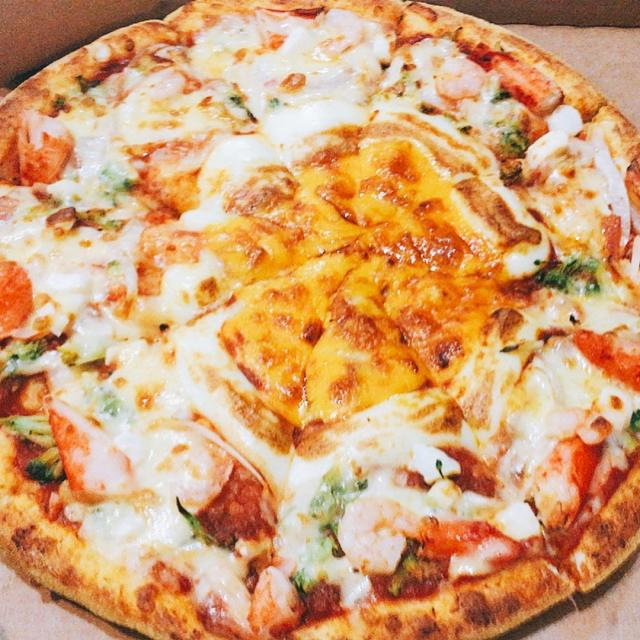basil: (457, 120, 530, 160), (310, 479, 362, 534), (534, 256, 600, 294), (94, 388, 141, 441), (177, 498, 215, 545), (294, 545, 324, 592), (25, 448, 64, 483), (99, 168, 136, 203), (245, 86, 283, 118), (8, 415, 50, 443), (15, 342, 43, 374)
pizza: (0, 0, 640, 640)
